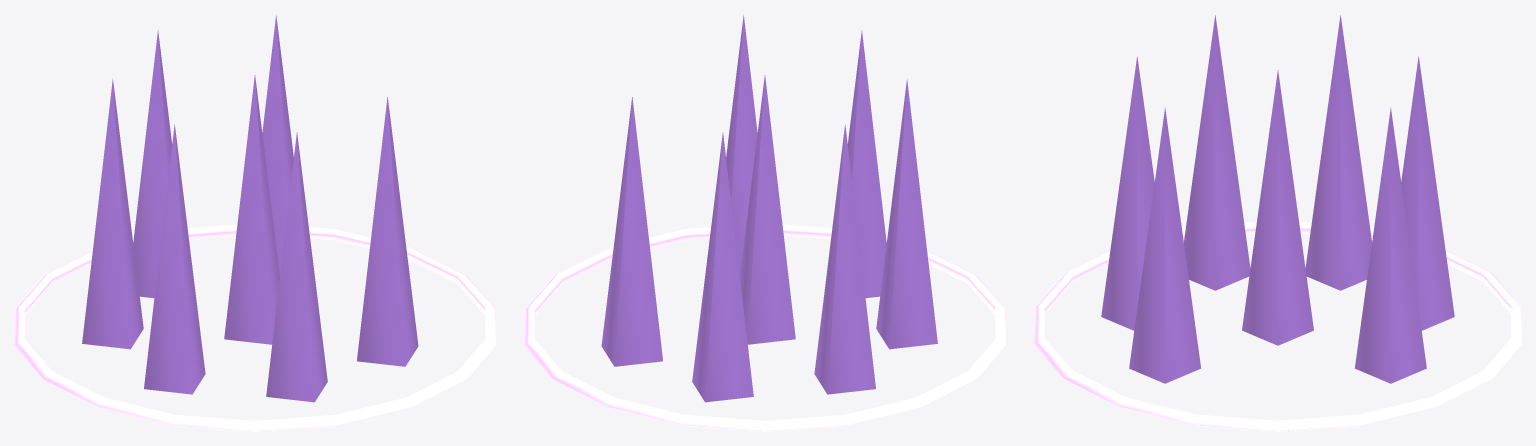
The model's file is fx_boss_shadow_spikes.glb.
3 renders of one model, left to right at view 1: azimuth 30°, elevation 25°; view 2: azimuth 150°, elevation 25°; view 3: azimuth 270°, elevation 25°, orthographic.
Parts seen in each view (by area): view 1: warn_spikeWarn, spike2_shadowSpike, spike3_shadowSpike, spike4_shadowSpike, spike1_shadowSpike, spike0_shadowSpike, spike5_shadowSpike, spike6_shadowSpike; view 2: warn_spikeWarn, spike5_shadowSpike, spike3_shadowSpike, spike4_shadowSpike, spike6_shadowSpike, spike0_shadowSpike, spike2_shadowSpike, spike1_shadowSpike; view 3: spike0_shadowSpike, spike1_shadowSpike, spike6_shadowSpike, spike3_shadowSpike, spike4_shadowSpike, warn_spikeWarn, spike2_shadowSpike, spike5_shadowSpike.
Boxes of the visible parts, x1=… form: warn_spikeWarn: x1=14, y1=224, x2=495, y2=431; spike2_shadowSpike: x1=266, y1=132, x2=327, y2=402; spike3_shadowSpike: x1=144, y1=124, x2=205, y2=394; spike4_shadowSpike: x1=82, y1=79, x2=143, y2=349; spike1_shadowSpike: x1=357, y1=97, x2=418, y2=366; spike0_shadowSpike: x1=224, y1=75, x2=279, y2=344; spike5_shadowSpike: x1=133, y1=30, x2=172, y2=298; spike6_shadowSpike: x1=262, y1=15, x2=293, y2=275; warn_spikeWarn: x1=524, y1=224, x2=1005, y2=431; spike5_shadowSpike: x1=692, y1=132, x2=753, y2=402; spike3_shadowSpike: x1=876, y1=79, x2=937, y2=349; spike4_shadowSpike: x1=814, y1=124, x2=875, y2=394; spike6_shadowSpike: x1=601, y1=97, x2=662, y2=366; spike0_shadowSpike: x1=740, y1=75, x2=795, y2=344; spike2_shadowSpike: x1=847, y1=30, x2=886, y2=298; spike1_shadowSpike: x1=726, y1=15, x2=757, y2=275; spike0_shadowSpike: x1=1242, y1=70, x2=1313, y2=345; spike1_shadowSpike: x1=1129, y1=107, x2=1201, y2=383; spike6_shadowSpike: x1=1354, y1=107, x2=1426, y2=383; spike3_shadowSpike: x1=1184, y1=15, x2=1250, y2=290; spike4_shadowSpike: x1=1305, y1=15, x2=1371, y2=290; warn_spikeWarn: x1=1034, y1=222, x2=1521, y2=431; spike2_shadowSpike: x1=1101, y1=56, x2=1154, y2=330; spike5_shadowSpike: x1=1401, y1=56, x2=1454, y2=330.
Bounding box in the file's own units: 2.06 × 1.21 × 2.03.
